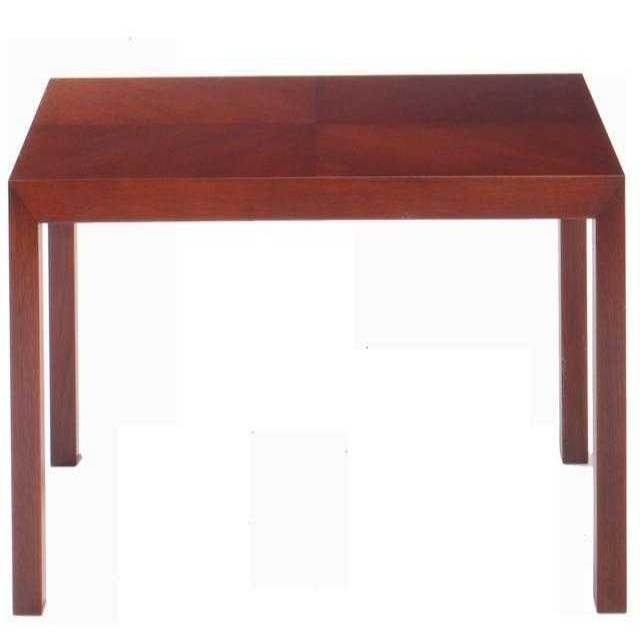obstacle: (9, 74, 626, 613)
